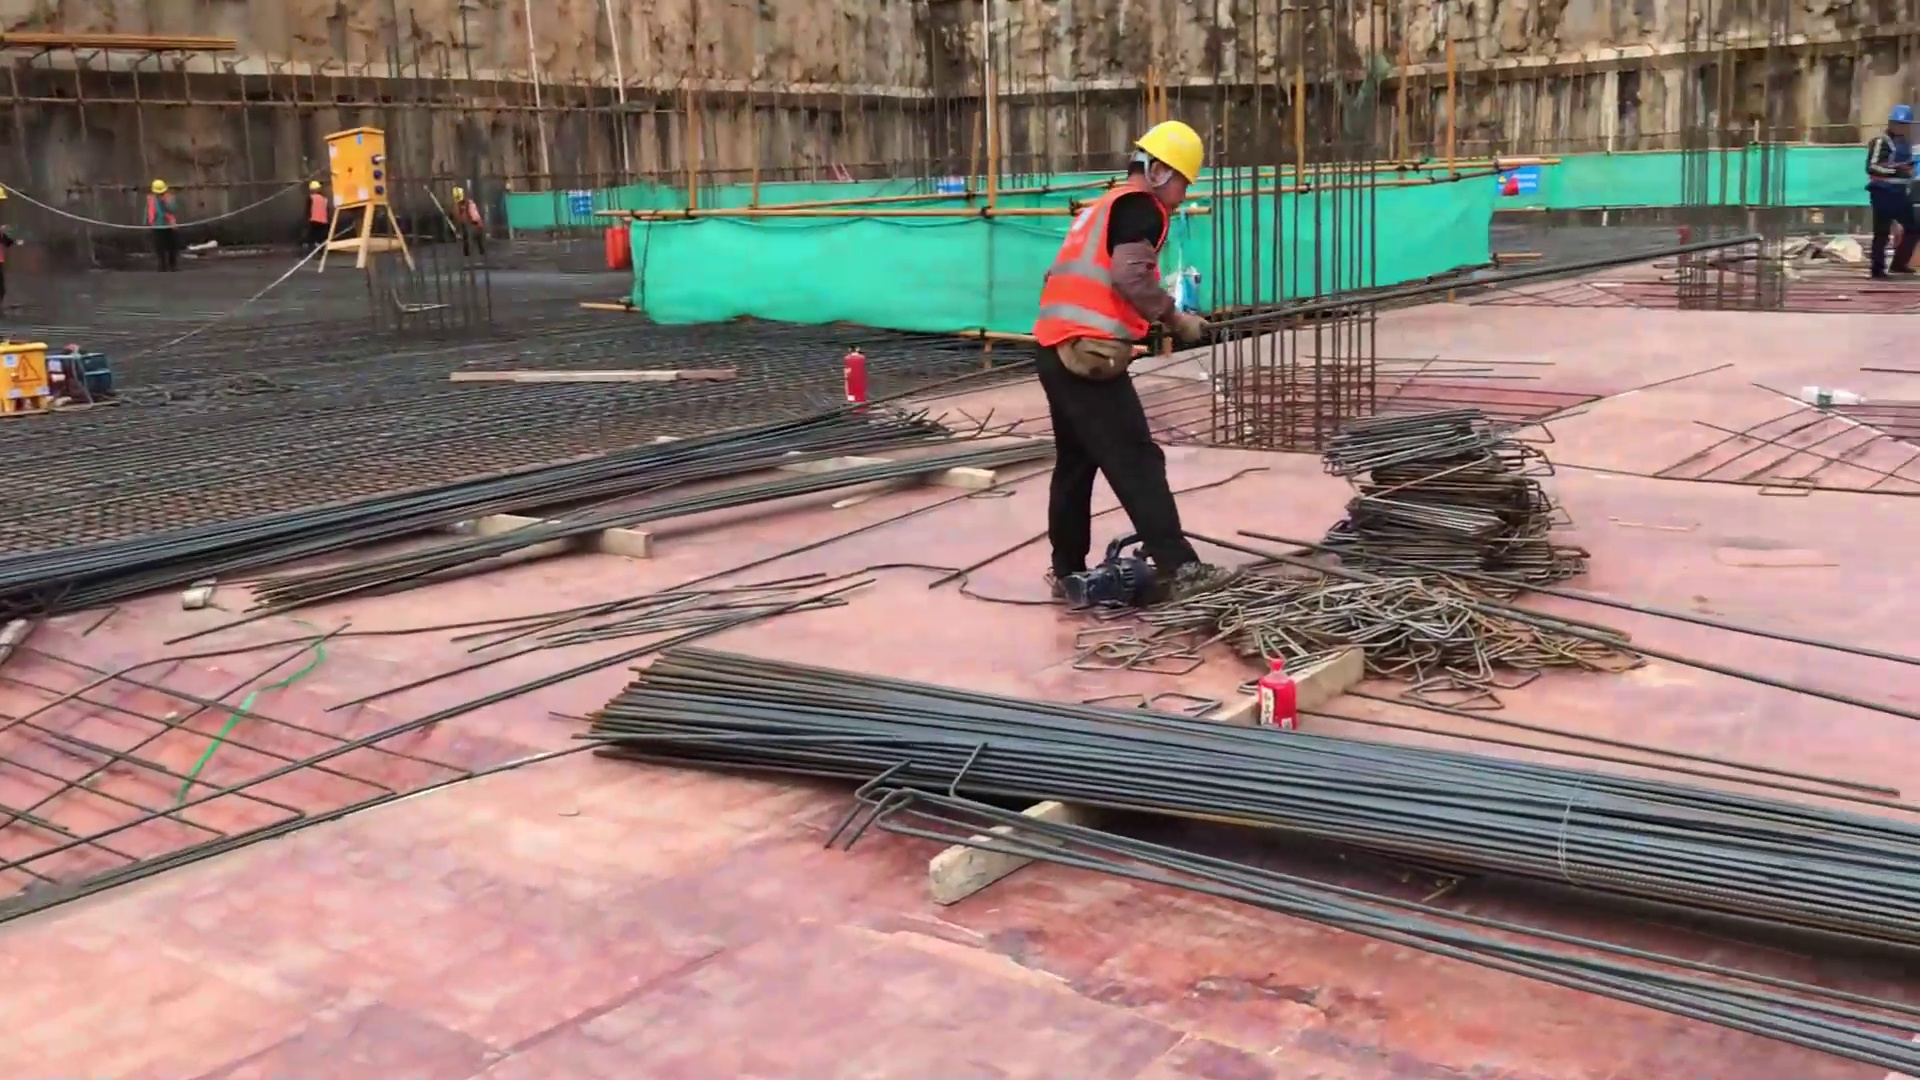ebox: (8, 316, 63, 424), (336, 124, 396, 216)
helmet: (1143, 115, 1216, 191), (1884, 102, 1920, 128), (152, 179, 168, 193), (451, 186, 464, 199), (310, 180, 323, 191)
person: (1008, 108, 1241, 600), (1869, 102, 1920, 278), (138, 163, 181, 283), (446, 171, 491, 263), (303, 178, 339, 246)
rebar: (1, 386, 925, 646), (611, 723, 1920, 876)
vest: (1029, 186, 1178, 348), (1878, 135, 1916, 195), (143, 195, 168, 226), (460, 202, 479, 228), (312, 195, 327, 226)
